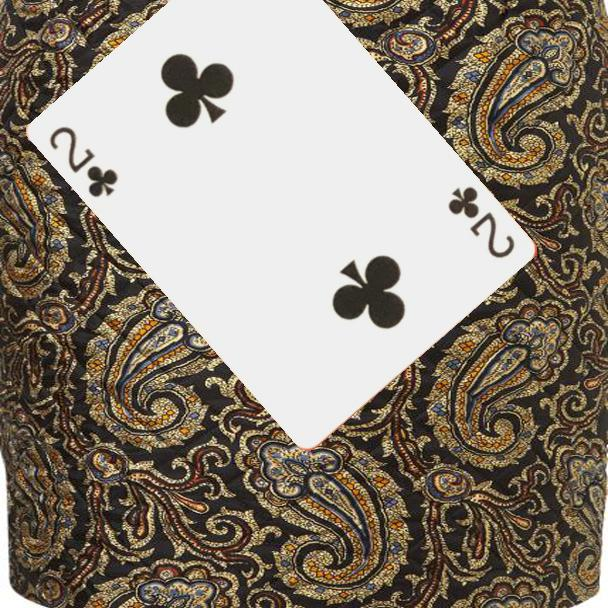c02: (46, 122, 122, 201), (444, 182, 519, 262)
